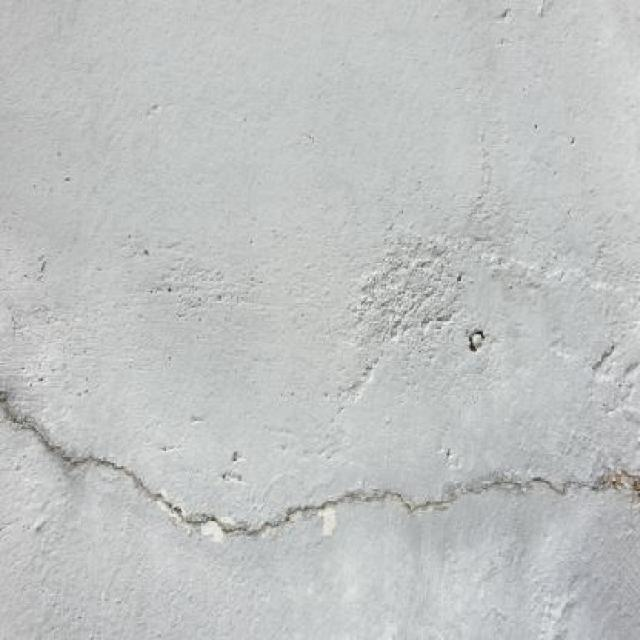horizontal crack: (1, 395, 636, 534)
